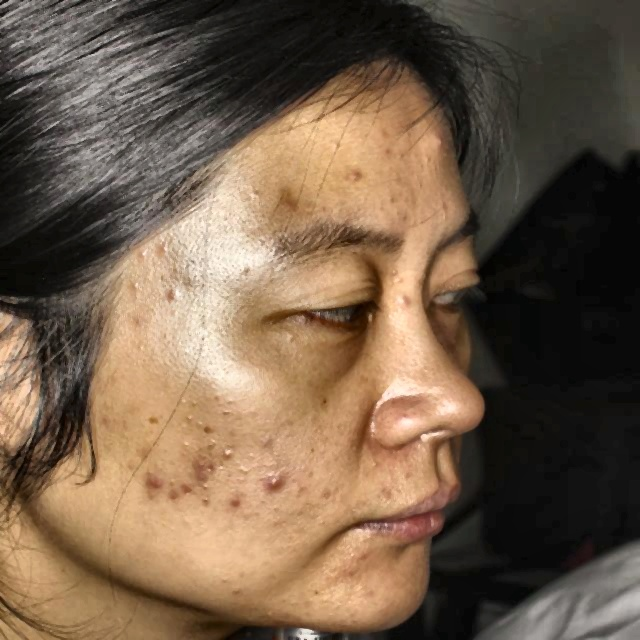pustule: (260, 466, 298, 505), (341, 160, 366, 194), (186, 457, 215, 482), (139, 468, 164, 496), (222, 489, 242, 522), (424, 129, 448, 154), (172, 476, 186, 511), (390, 295, 407, 316)
